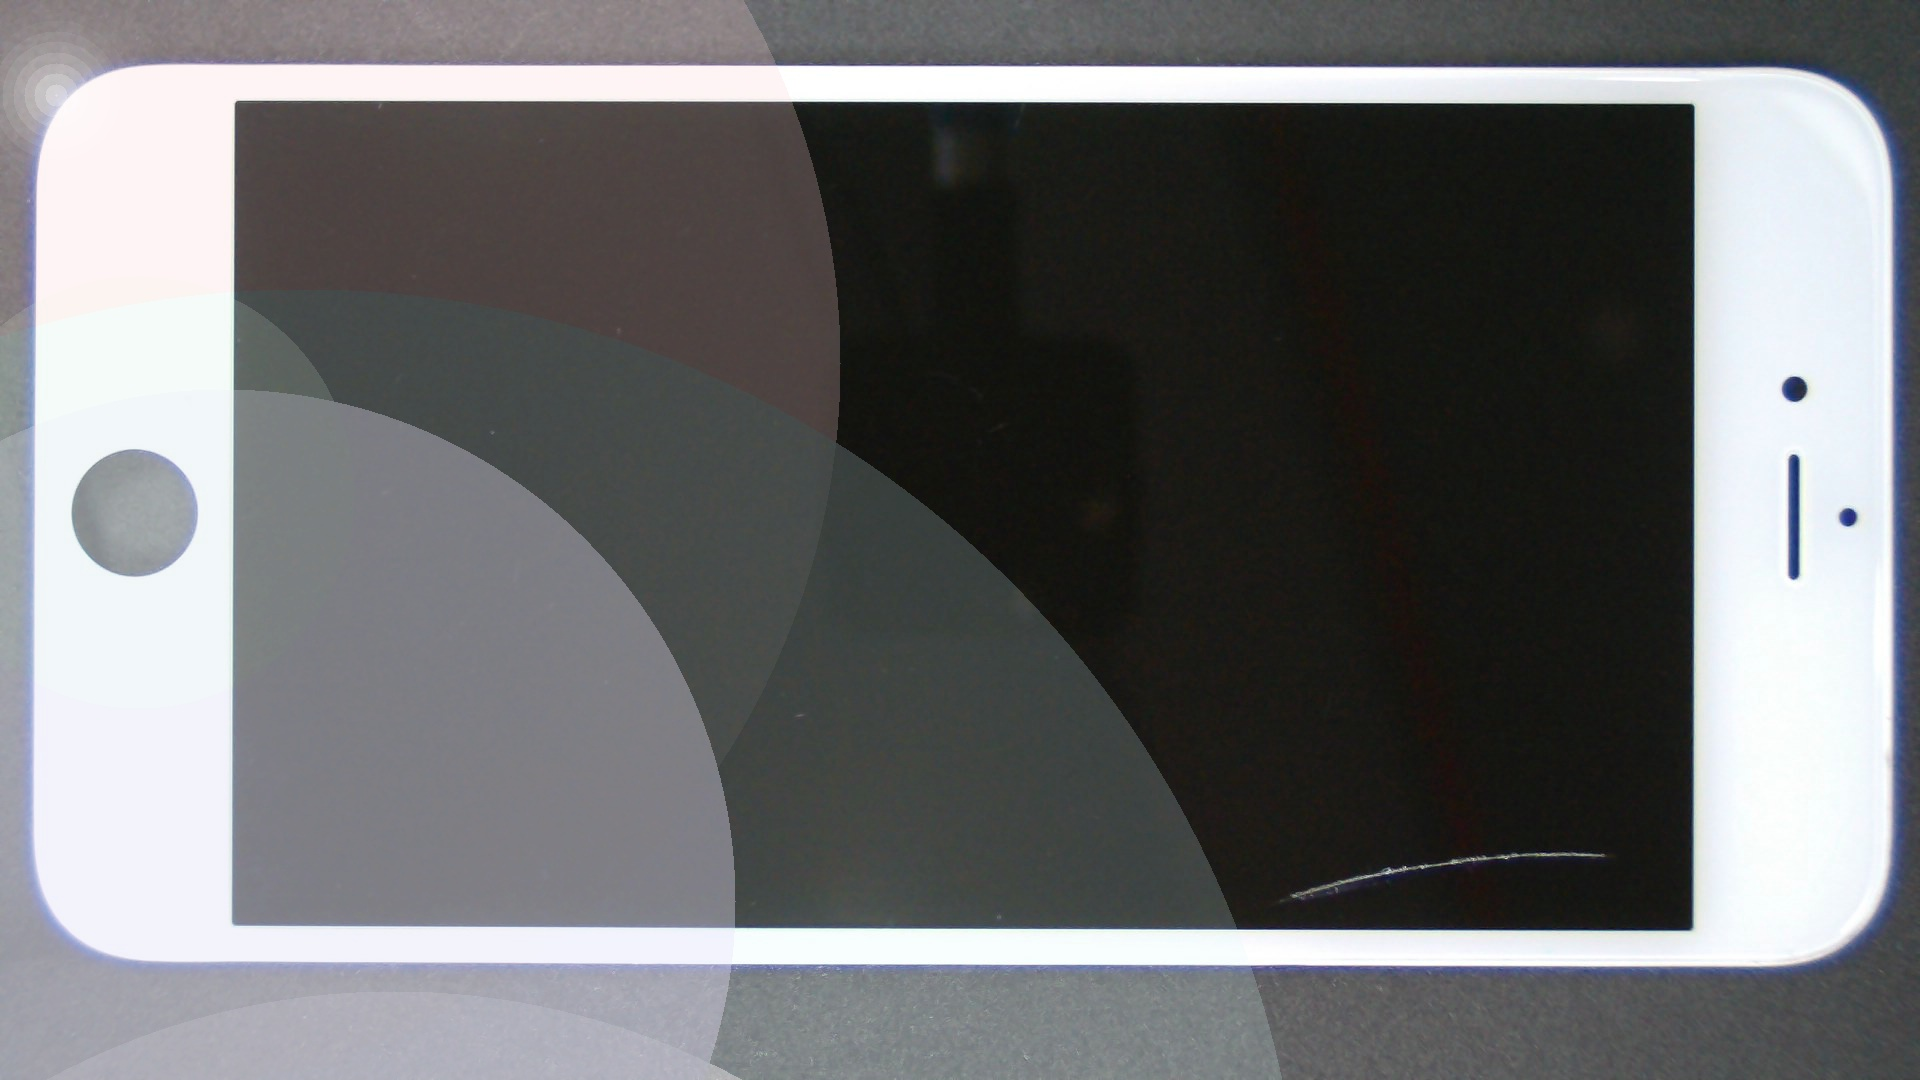oil: (770, 426, 1920, 1080)
